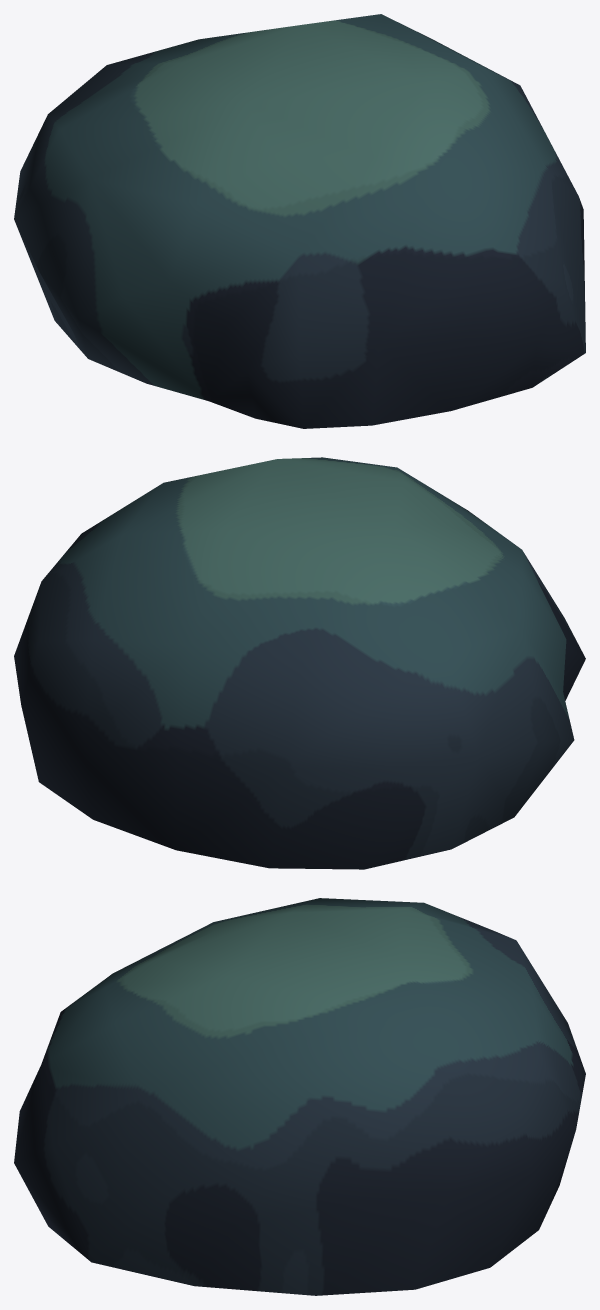
The model's file is Common Brain Coral_preview_3DS_simplified.glb.
3 views of the same model, one above another, from view 1: azimuth 30°, elevation 25°; view 2: azimuth 150°, elevation 25°; view 3: azimuth 270°, elevation 25° (orthographic). The views are drawn at different scales.
Visible parts, largest first — view 1: Marine Park Empire model; view 2: Marine Park Empire model; view 3: Marine Park Empire model.
Part boxes in pixels (x1,y1,x2,y2): Marine Park Empire model: [14, 14, 585, 428]; Marine Park Empire model: [14, 457, 585, 869]; Marine Park Empire model: [14, 898, 585, 1295].
Size of the model in its own units: 89.05 by 42.85 by 90.56.
Materials: 1 (1 with a texture image).
